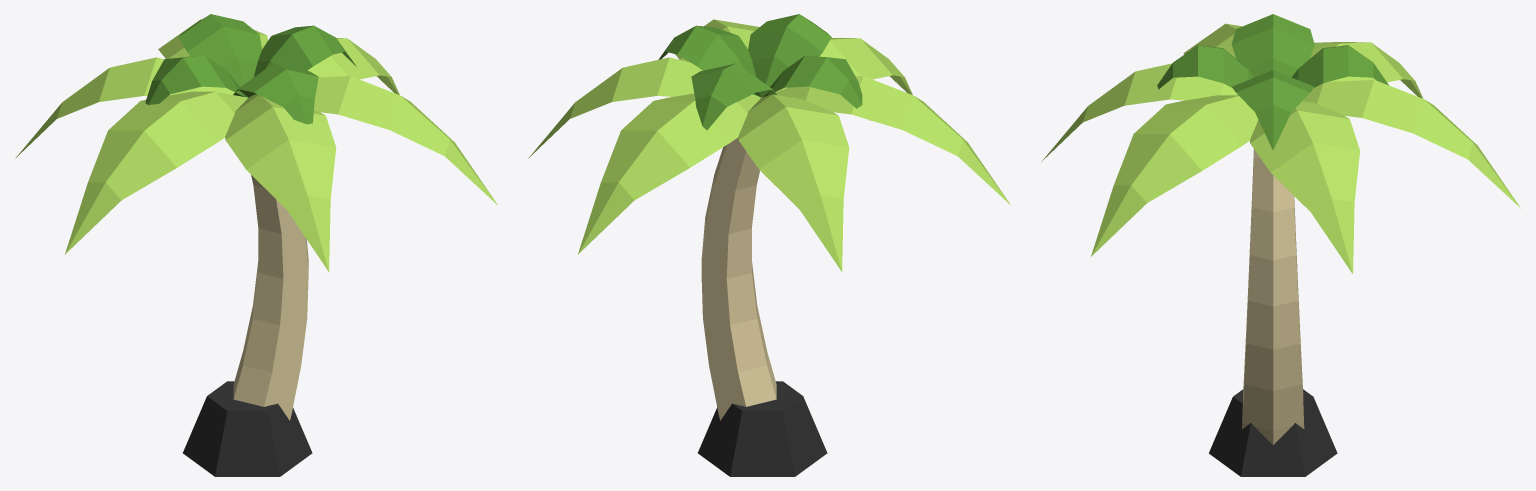
Rendered from PalmTree_LowPoly.fbx.
3 renders of one model, left to right at view 1: azimuth 30°, elevation 25°; view 2: azimuth 150°, elevation 25°; view 3: azimuth 270°, elevation 25°, orthographic.
Visible parts, largest first — view 1: PalmTree_LowPoly; view 2: PalmTree_LowPoly; view 3: PalmTree_LowPoly.
Part boxes in pixels (left/top/right/bottom): PalmTree_LowPoly: left=15, top=14, right=497, bottom=476; PalmTree_LowPoly: left=528, top=14, right=1010, bottom=476; PalmTree_LowPoly: left=1041, top=14, right=1520, bottom=476.
Bounding box in the file's own units: 3.39 × 3.24 × 3.46.
